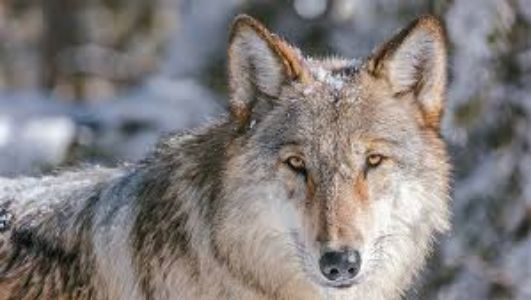wolf: (138, 12, 463, 295)
